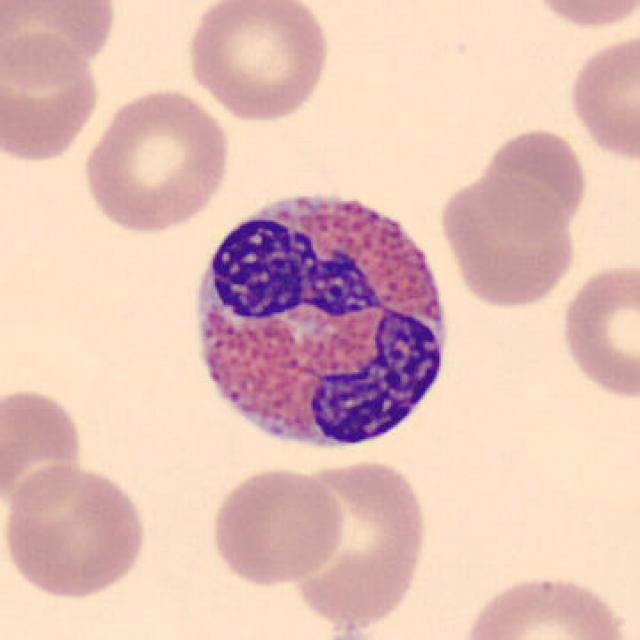Eosinophil: (176, 173, 459, 472)
RBC: (281, 455, 432, 629), (78, 85, 233, 236), (0, 460, 151, 601), (438, 173, 580, 310), (181, 0, 334, 123), (206, 464, 348, 589), (0, 28, 103, 166), (455, 569, 633, 640), (478, 125, 590, 236), (0, 383, 87, 520), (556, 259, 638, 402), (0, 0, 119, 86), (564, 30, 638, 166), (521, 0, 640, 32)
